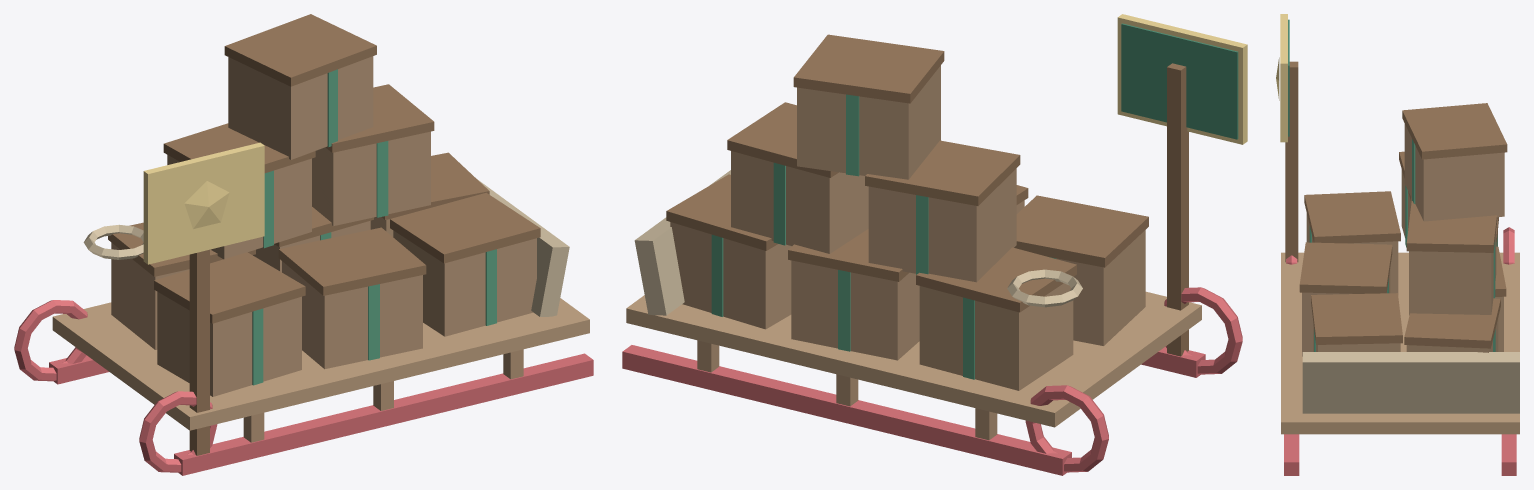
File: station_supply.glb
3 views of the same model, side by side, from view 1: azimuth 30°, elevation 25°; view 2: azimuth 150°, elevation 25°; view 3: azimuth 270°, elevation 25° (orthographic). The views are drawn at different scales.
Parts seen in each view (by area): view 1: Strut.-1.-0.6, Crate lid.0, Deck, Runner.-1, Sign trim, Crate strap.0, Tarp; view 2: Strut.-1.-0.6, Crate lid.0, Deck, Runner.-1, Sign board, Crate strap.0, Tarp, Sign trim; view 3: Crate lid.0, Strut.-1.-0.6, Tarp, Deck, Runner.-1, Sign trim, Crate strap.0.
Part boxes in pixels (x1,y1,x2,y2): Strut.-1.-0.6: (111,56,536,442); Crate lid.0: (108,14,540,455); Deck: (52,298,589,430); Runner.-1: (14,300,593,475); Sign trim: (143,142,264,264); Crate strap.0: (252,69,496,385); Tarp: (83,179,569,316); Strut.-1.-0.6: (670,65,1145,440); Crate lid.0: (666,34,1188,356); Deck: (626,291,1201,427); Runner.-1: (622,287,1242,475); Sign board: (1121,23,1238,139); Crate strap.0: (711,94,1056,379); Tarp: (634,170,1082,315); Sign trim: (1117,14,1247,144); Crate lid.0: (1285,61,1507,348); Strut.-1.-0.6: (1302,124,1504,356); Tarp: (1302,352,1519,413); Deck: (1281,252,1519,434); Runner.-1: (1284,227,1516,475); Sign trim: (1276,14,1287,142); Crate strap.0: (1309,139,1497,351).
Size of the model in its own units: 2.08 by 1.38 by 1.12.
